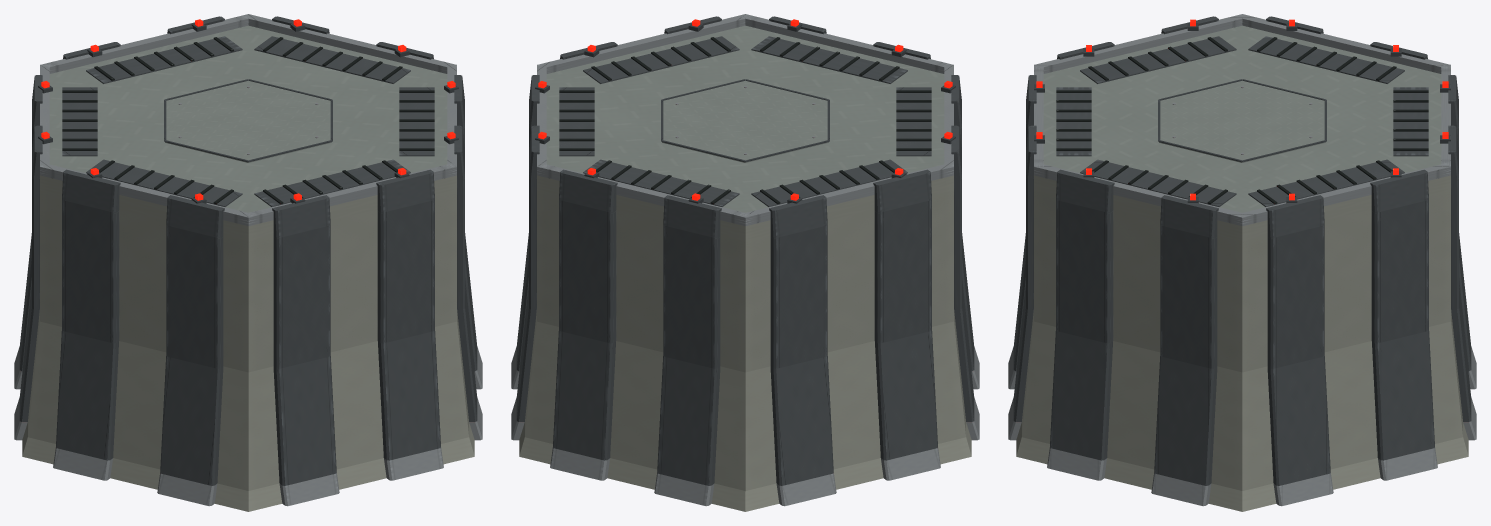
The model's file is terminal.glb.
3 renders of one model, left to right at view 1: azimuth 30°, elevation 25°; view 2: azimuth 150°, elevation 25°; view 3: azimuth 270°, elevation 25°, orthographic.
Parts seen in each view (by area): view 1: terminal-lod0-roof0, terminal-lod0-base0, terminal-lod0-floor0; view 2: terminal-lod0-roof0, terminal-lod0-base0, terminal-lod0-floor0; view 3: terminal-lod0-roof0, terminal-lod0-base0, terminal-lod0-floor0.
Part boxes in pixels (x1,y1,x2,y2): terminal-lod0-roof0: (32,14,464,241); terminal-lod0-base0: (14,233,482,511); terminal-lod0-floor0: (32,127,464,372); terminal-lod0-roof0: (529,14,961,241); terminal-lod0-base0: (511,233,979,511); terminal-lod0-floor0: (529,127,961,372); terminal-lod0-roof0: (1026,14,1458,241); terminal-lod0-base0: (1008,233,1476,511); terminal-lod0-floor0: (1026,127,1458,372).
Size of what is drawn, in the model's own units: 65.13 by 40.38 by 58.4.
7 materials, 7 textured.
